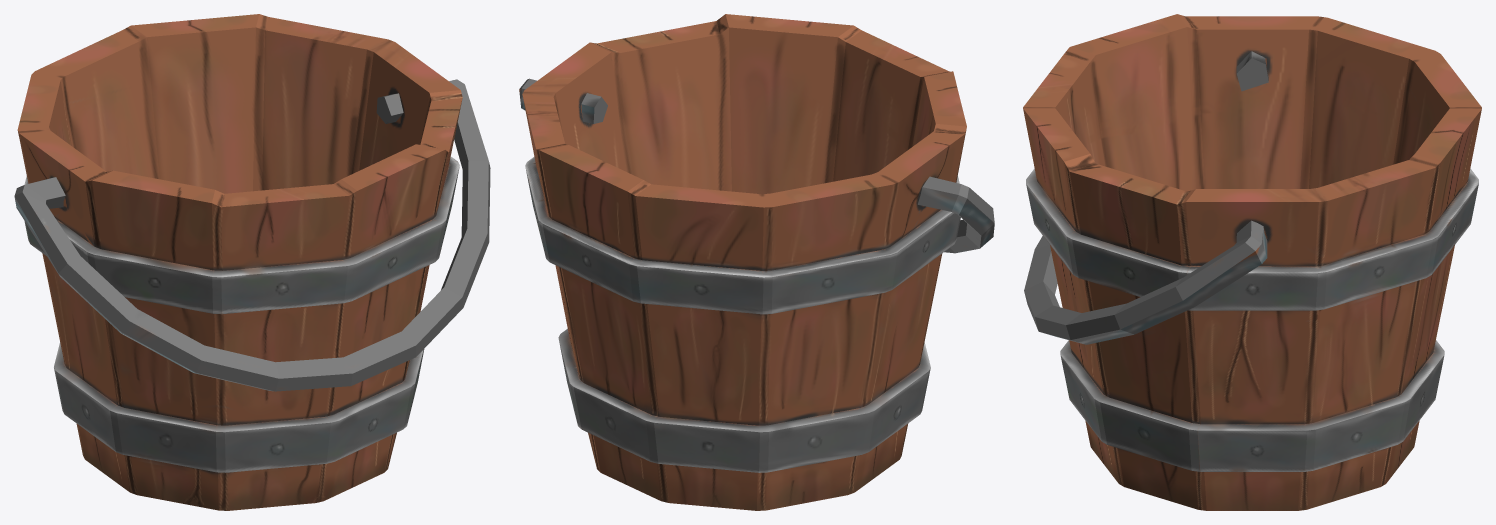
Rendered from Bucket.fbx.
3 renders of one model, left to right at view 1: azimuth 30°, elevation 25°; view 2: azimuth 150°, elevation 25°; view 3: azimuth 270°, elevation 25°, orthographic.
Visible parts, largest first — view 1: Bucket, BucketHandle; view 2: Bucket, BucketHandle; view 3: Bucket, BucketHandle.
Boxes of the visible parts, box(x1,y1,x2,y2) form: Bucket: box(17, 14, 462, 510); BucketHandle: box(14, 79, 490, 391); Bucket: box(522, 14, 966, 510); BucketHandle: box(519, 78, 994, 253); Bucket: box(1023, 14, 1481, 510); BucketHandle: box(1024, 51, 1268, 344).
Bounding box in the file's own units: 0.3614 × 0.2583 × 0.3162.
